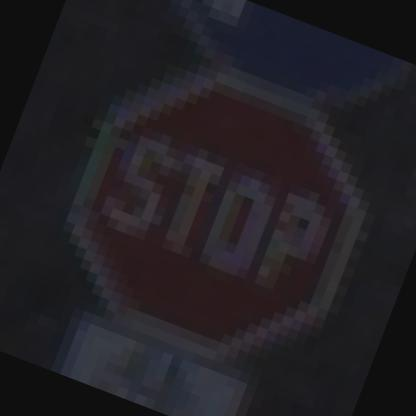stop: (20, 32, 405, 394)
